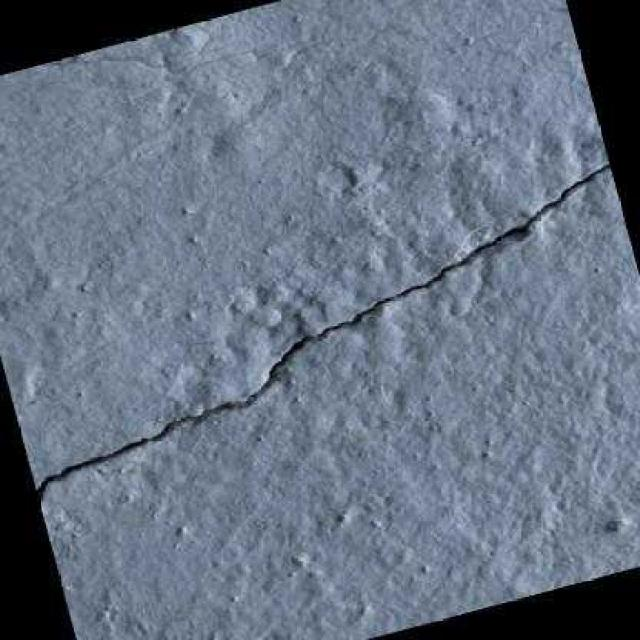D00: (33, 160, 611, 502)
